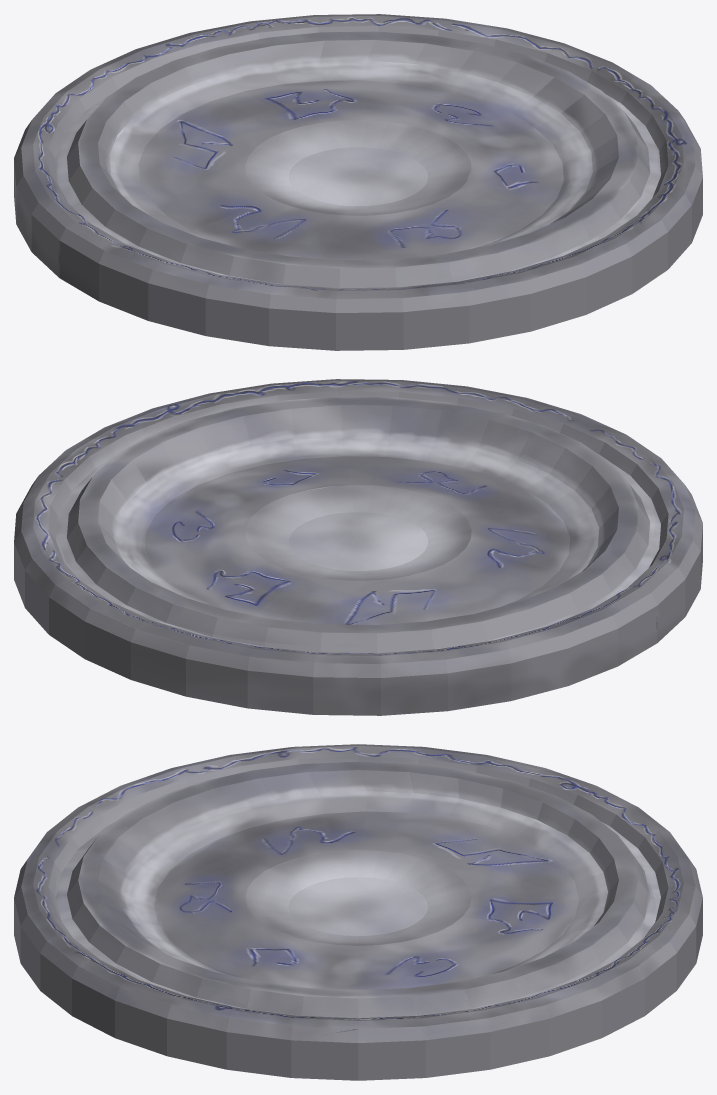
Rendered from Portal1.fbx.
3 renders of one model, top to bottom at view 1: azimuth 30°, elevation 25°; view 2: azimuth 150°, elevation 25°; view 3: azimuth 270°, elevation 25°, orthographic.
Parts seen in each view (by area): view 1: TransmutationAmulet.001; view 2: TransmutationAmulet.001; view 3: TransmutationAmulet.001.
Boxes of the visible parts, x1,y1,x2,y2 form: TransmutationAmulet.001: [14, 14, 702, 350]; TransmutationAmulet.001: [14, 379, 702, 715]; TransmutationAmulet.001: [14, 744, 702, 1080].
Bounding box in the file's own units: 4.81 × 0.4256 × 4.81.
